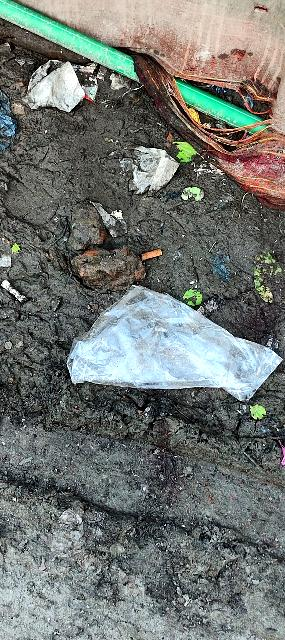polythene: (51, 251, 285, 422)
